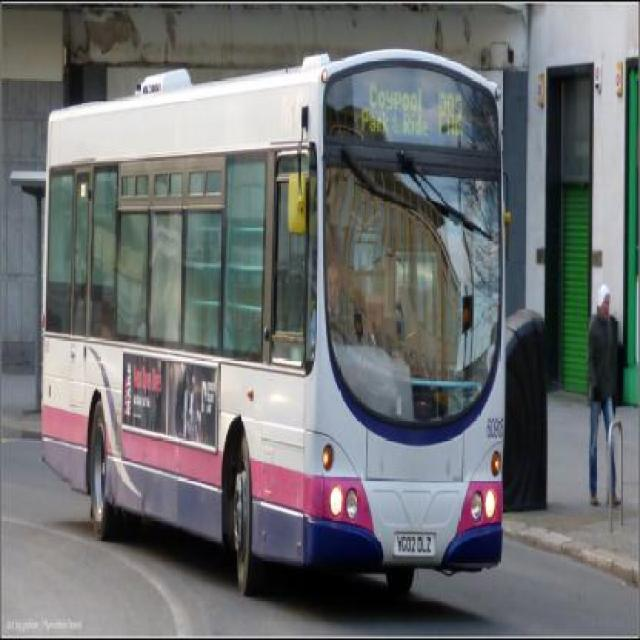motorcycle: (39, 46, 508, 600)
